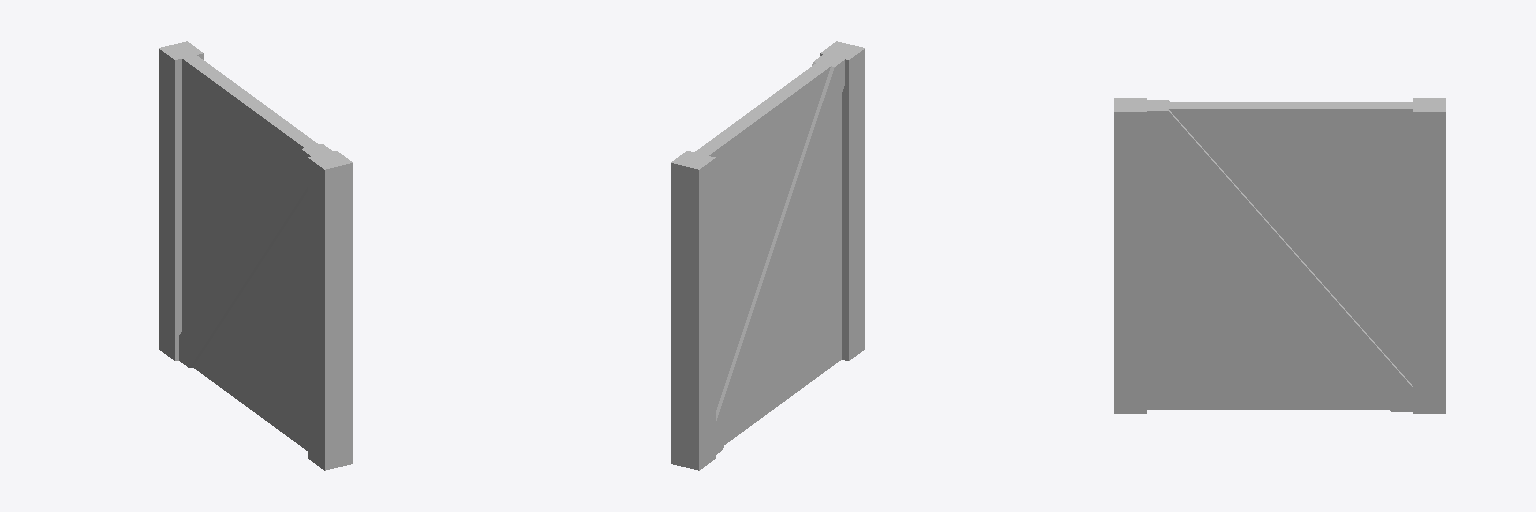
The model's file is wall-detail-diagonal.obj.
3 views of the same model, side by side, from view 1: azimuth 30°, elevation 25°; view 2: azimuth 150°, elevation 25°; view 3: azimuth 270°, elevation 25° (orthographic).
Visible parts, largest first — view 1: wall-detail-diagonal; view 2: wall-detail-diagonal; view 3: wall-detail-diagonal.
Part boxes in pixels (left/top/right/bottom): wall-detail-diagonal: left=159, top=41, right=352, bottom=470; wall-detail-diagonal: left=671, top=41, right=864, bottom=470; wall-detail-diagonal: left=1114, top=98, right=1445, bottom=413.
Size of the model in its own units: 0.1 by 1 by 1.